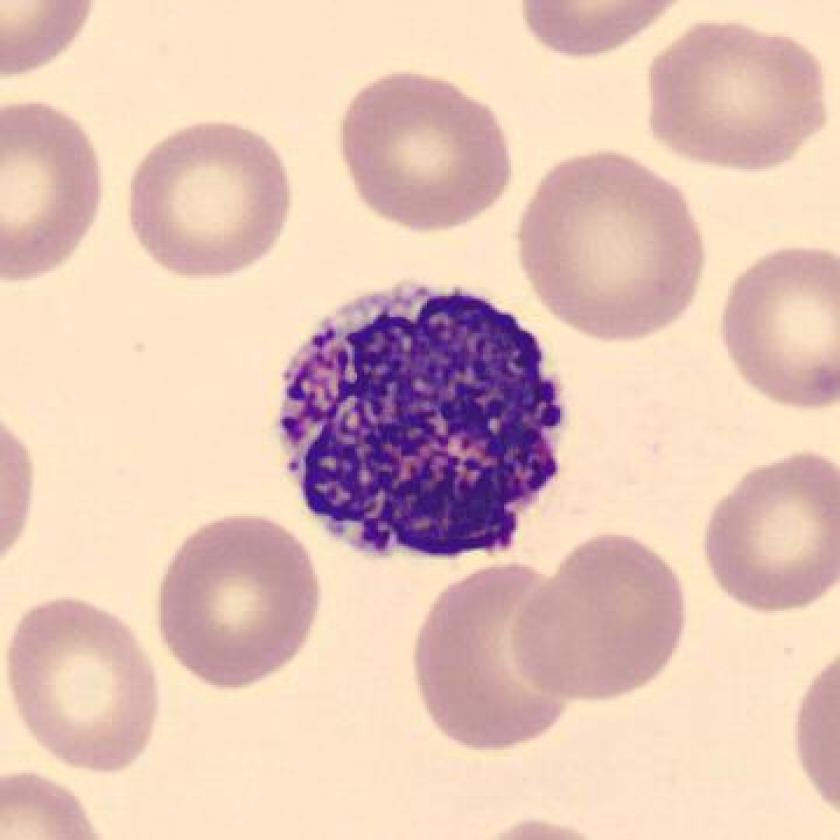basophil: (276, 274, 573, 575)
